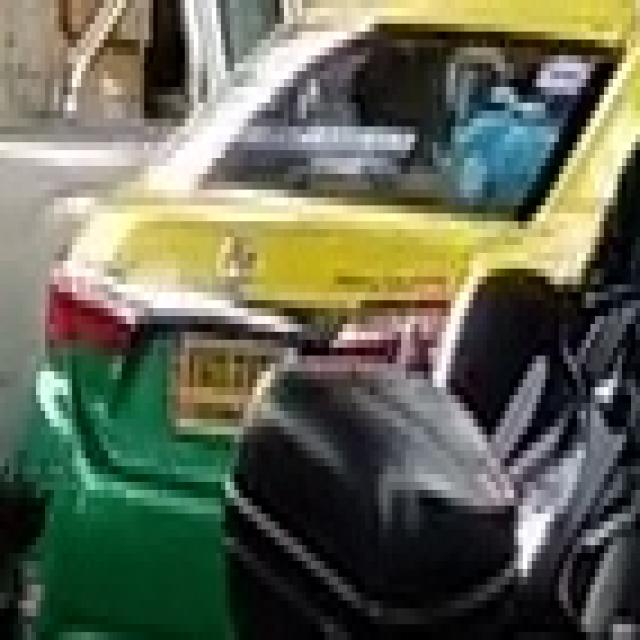door: (18, 0, 636, 632)
